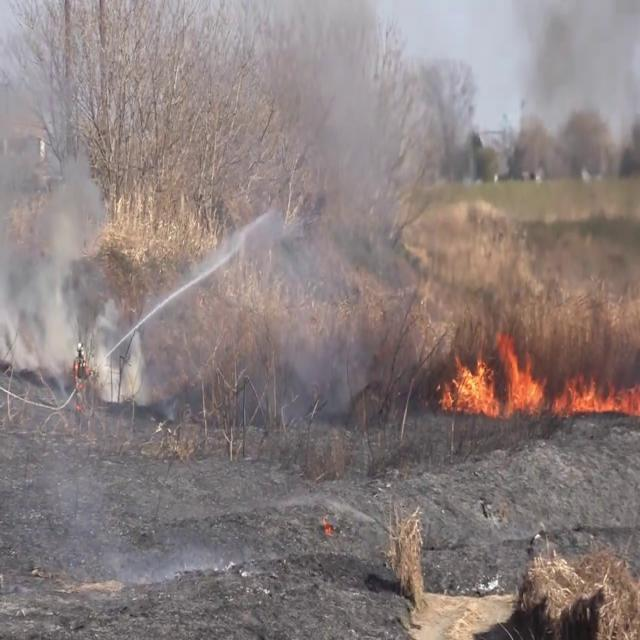Fire: (440, 325, 544, 420), (554, 368, 640, 420)
Smoke: (260, 0, 451, 357), (0, 4, 136, 392)
